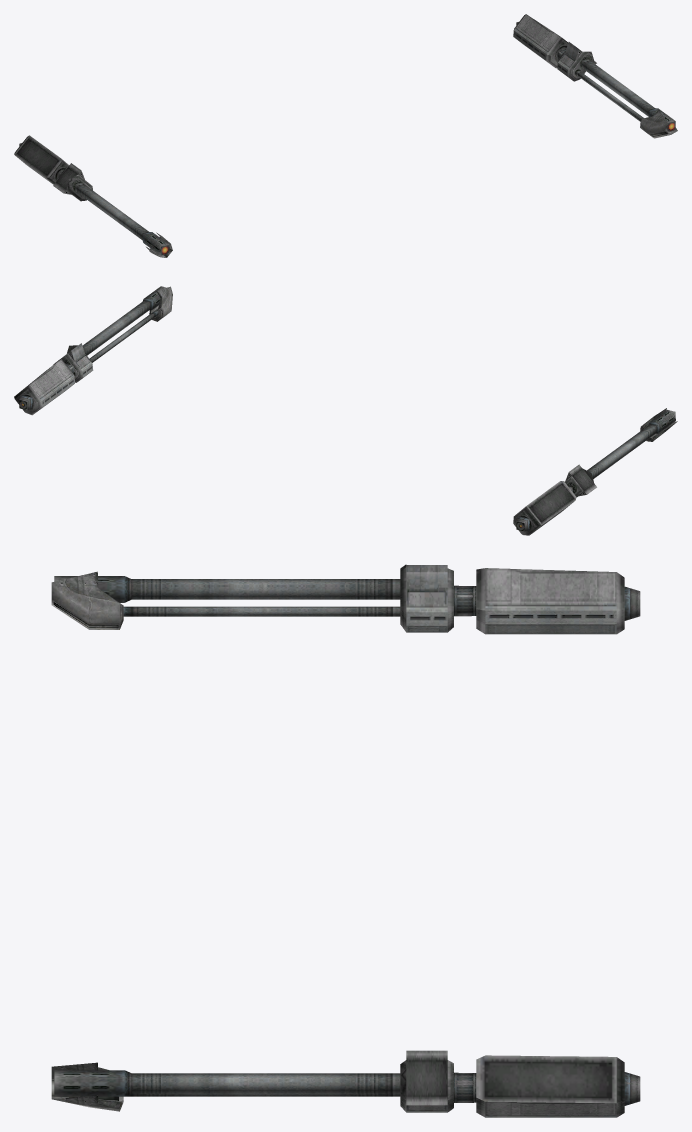
File: hutt_fighter_medium_weapon2_s06_l1.fbx
The picture shows the model from 3 angles, top to bottom: view 1: azimuth 30°, elevation 25°; view 2: azimuth 150°, elevation 25°; view 3: azimuth 270°, elevation 25°; orthographic projection. The views are drawn at different scales.
Parts seen in each view (by area): view 1: mesh_node; view 2: mesh_node; view 3: mesh_node.
Part boxes in pixels (x1,y1,x2,y2): mesh_node: (14,14,677,257); mesh_node: (14,286,677,535); mesh_node: (51,564,640,1117).
Bounding box in the file's own units: 13.52 × 0.8003 × 6.45.
